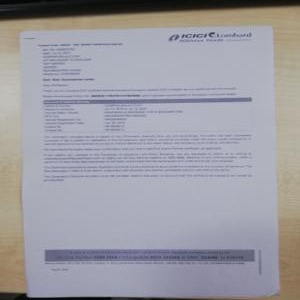text: (41, 102, 259, 182), (38, 41, 242, 97), (169, 29, 255, 42)
